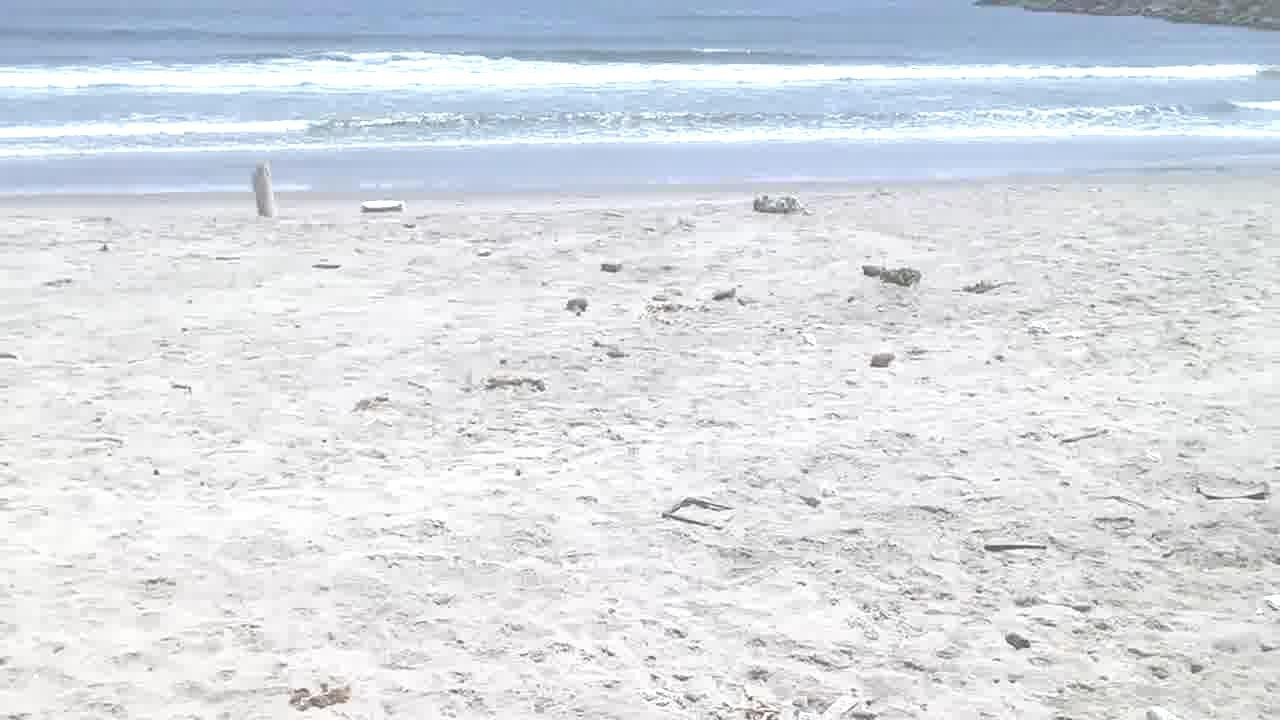large collection of objects: (754, 192, 801, 212)
obj: (662, 492, 736, 530), (638, 292, 703, 332), (291, 682, 358, 714), (476, 371, 550, 398), (861, 263, 922, 288), (253, 166, 276, 220), (1016, 317, 1067, 340), (584, 338, 637, 357), (981, 538, 1052, 551), (358, 196, 412, 212), (564, 296, 589, 318), (598, 262, 626, 274), (796, 333, 817, 347), (478, 246, 492, 255)
sand/background: (0, 0, 1279, 205)
